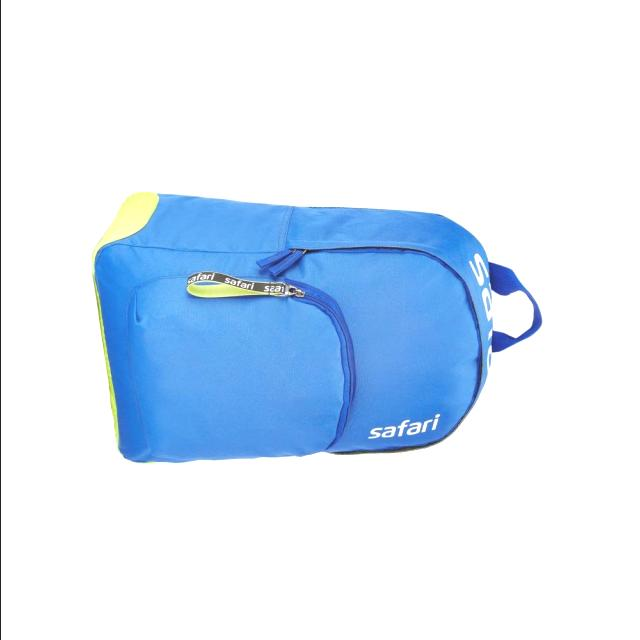backpack: (92, 192, 544, 466)
